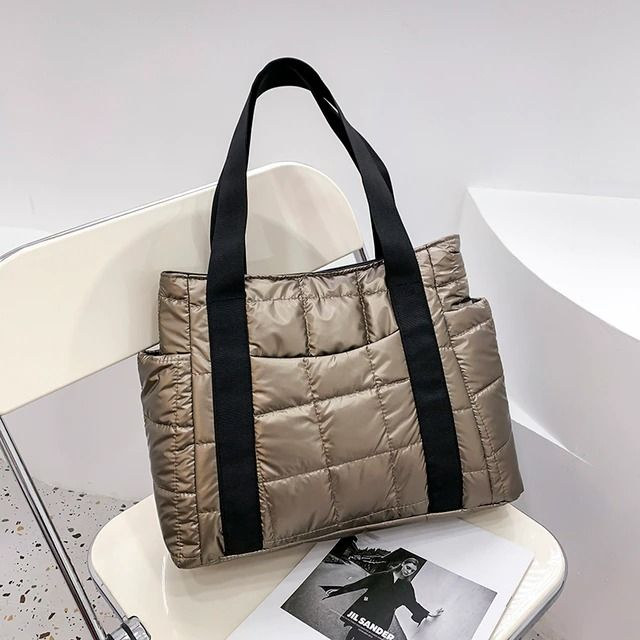nylon: (137, 58, 526, 570)
